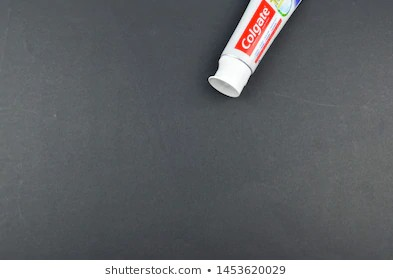colgate-total-150gm: (198, 1, 308, 104)
